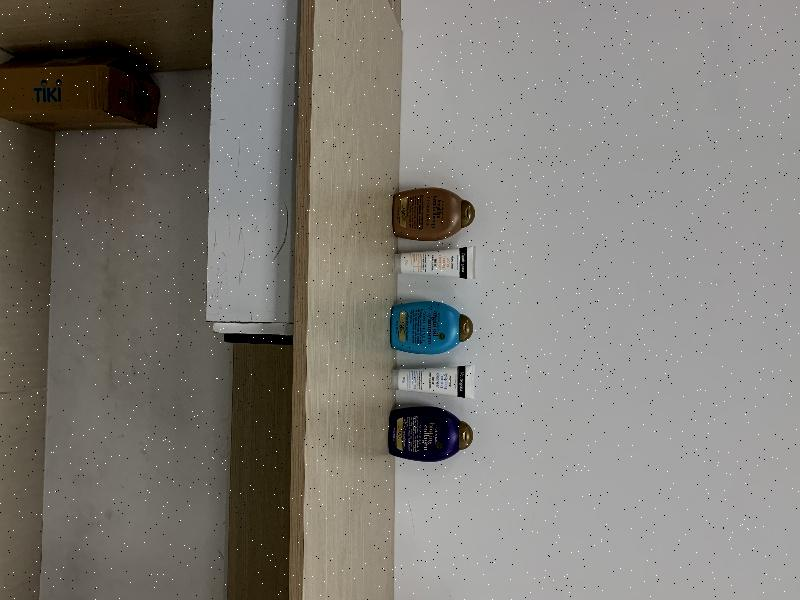AcneFoamingCleanser: (393, 246, 475, 279)
ArganOilOfMorocco_Conditioner: (390, 301, 473, 355)
BiotinCollagen_Shampoo: (389, 406, 473, 462)
BrazilianKerationTherapy_Conditioner: (392, 188, 475, 241)
HydratingFoamingCleanser: (391, 362, 474, 399)
